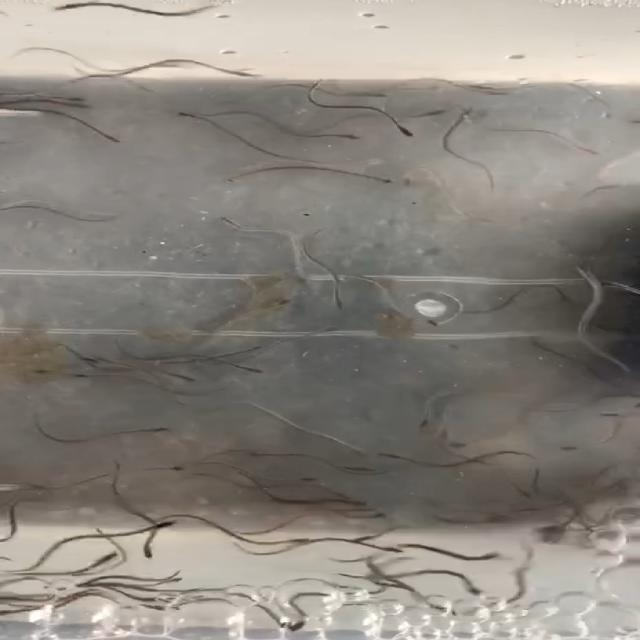active_glass_eel: (48, 1, 145, 34), (364, 166, 424, 199), (200, 212, 270, 239), (204, 60, 266, 85), (140, 516, 194, 536), (324, 127, 380, 145), (258, 616, 314, 634), (156, 575, 218, 591), (383, 124, 438, 142), (475, 510, 526, 529), (456, 575, 494, 599), (306, 294, 362, 310), (549, 263, 598, 281), (417, 316, 456, 338), (291, 472, 340, 489), (580, 138, 610, 165), (156, 462, 212, 476), (280, 536, 318, 556), (128, 426, 186, 438), (519, 487, 557, 505), (162, 104, 204, 120), (136, 540, 173, 558), (171, 367, 207, 385), (454, 82, 500, 96), (426, 105, 466, 121), (73, 355, 122, 368), (461, 89, 524, 99), (337, 494, 376, 510), (50, 93, 119, 102), (85, 136, 141, 147), (237, 362, 273, 379), (57, 582, 118, 591), (472, 550, 500, 568), (61, 372, 110, 382), (360, 574, 387, 592), (364, 510, 398, 523), (274, 291, 297, 310), (551, 444, 583, 457), (339, 448, 373, 460), (373, 546, 410, 557), (58, 105, 116, 112), (352, 532, 383, 545), (103, 546, 127, 561), (316, 324, 360, 332), (248, 340, 270, 354), (418, 418, 442, 430), (602, 409, 634, 418), (340, 465, 376, 472), (378, 451, 398, 463), (433, 461, 464, 468)
